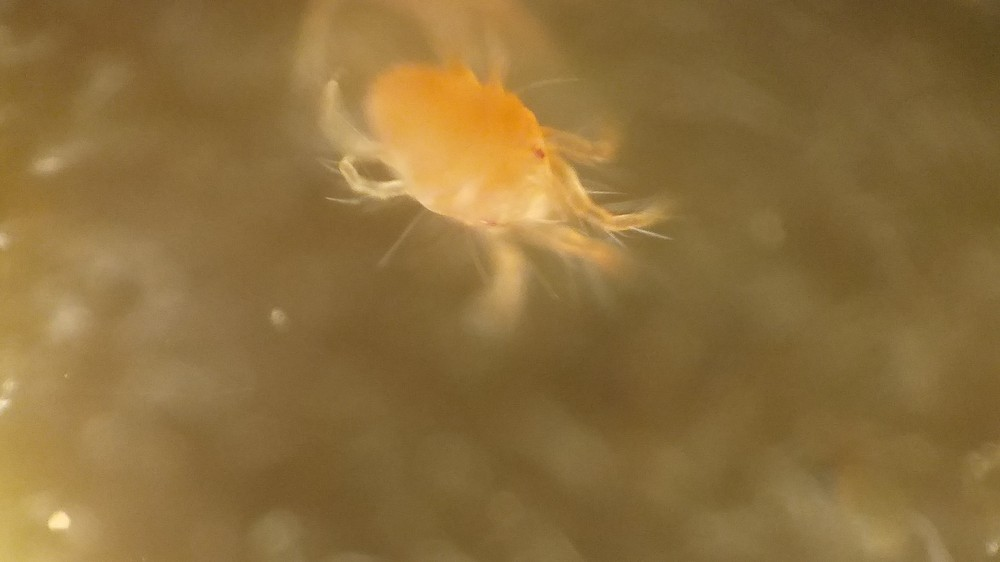Aracnido Rojo: (292, 1, 710, 348)
